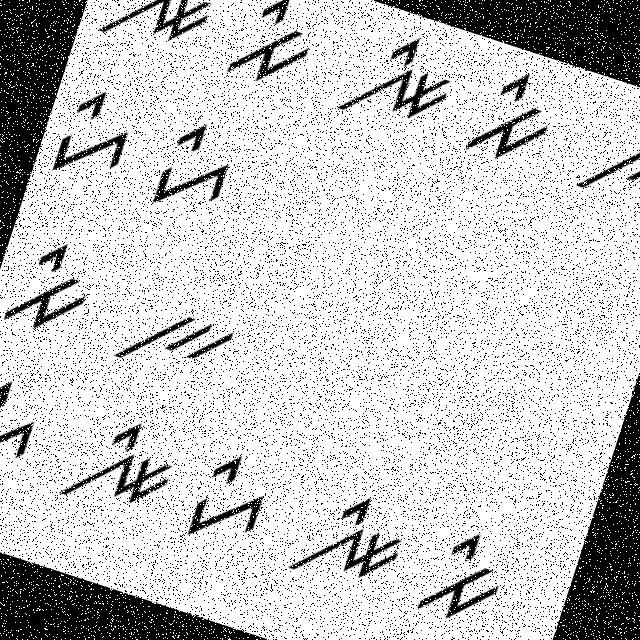hi: (140, 110, 250, 230), (176, 438, 282, 561), (44, 73, 148, 194), (0, 360, 57, 489)
mbi: (451, 56, 572, 185), (0, 219, 111, 357), (408, 514, 524, 639), (222, 0, 327, 100)
ndi: (330, 9, 470, 146), (54, 399, 188, 538), (280, 478, 417, 609), (93, 0, 230, 68)
